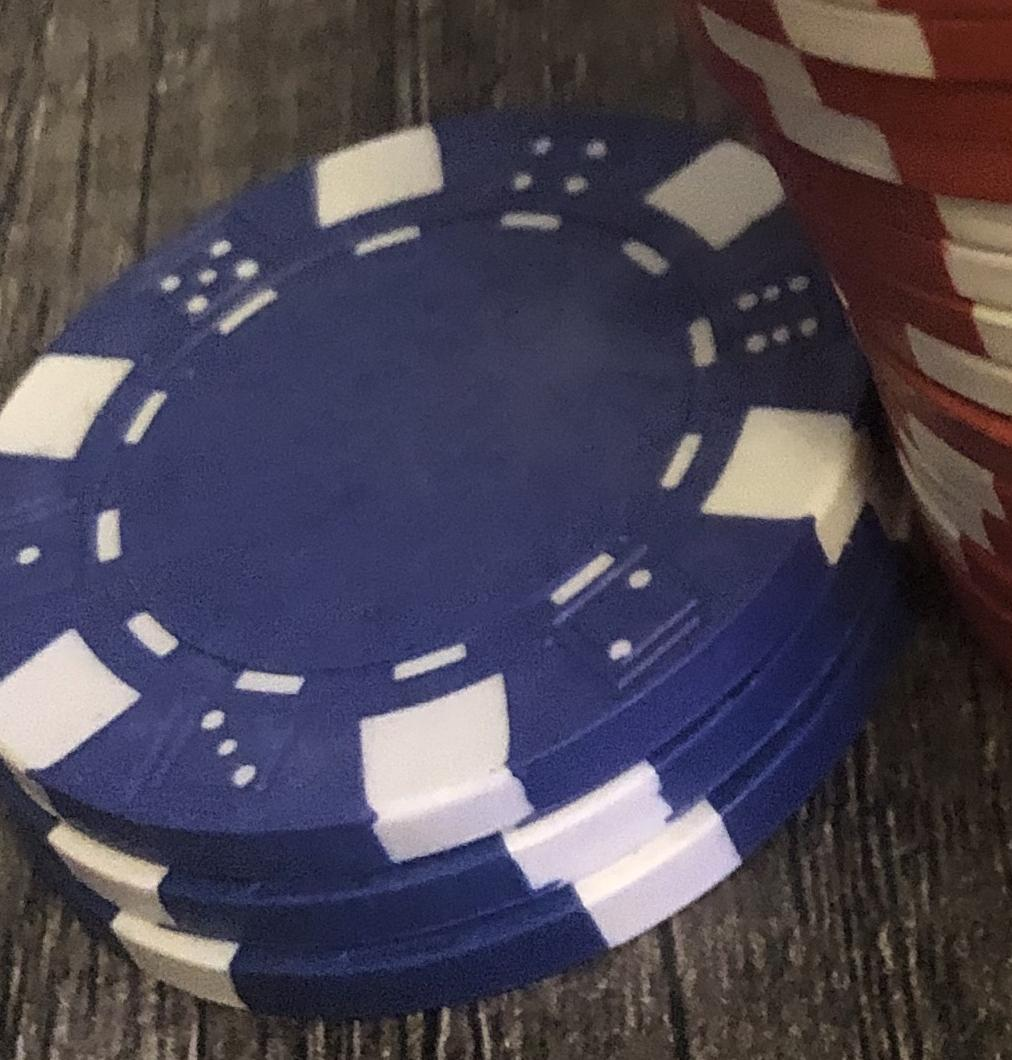Chip: (1, 1, 1012, 1060)
